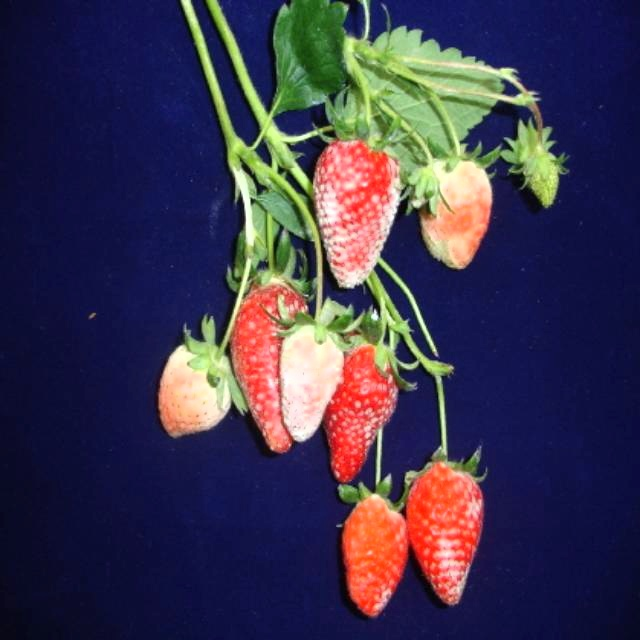Powdery Mildew Fruit: (230, 273, 312, 454), (312, 128, 404, 289), (403, 456, 484, 607), (322, 336, 399, 485), (341, 491, 407, 619), (280, 321, 345, 444)
